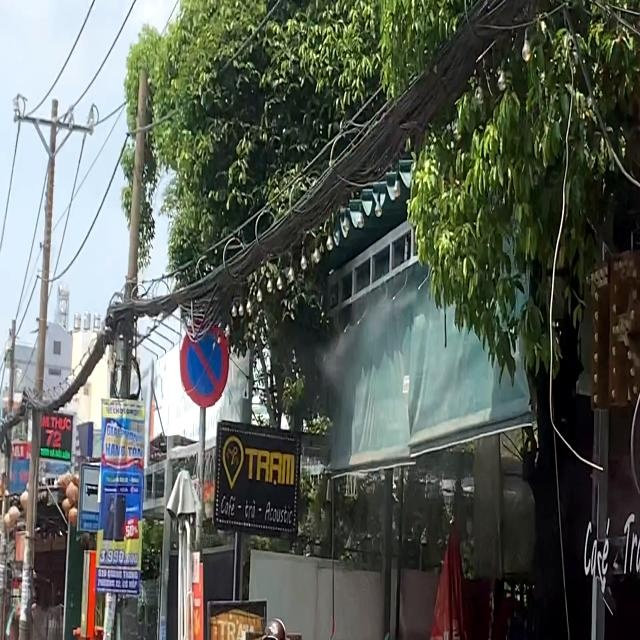bien_cam: (180, 328, 229, 407)
